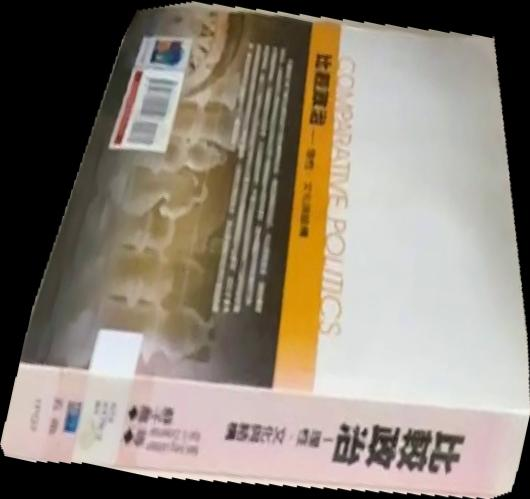flat: (1, 1, 530, 499)
